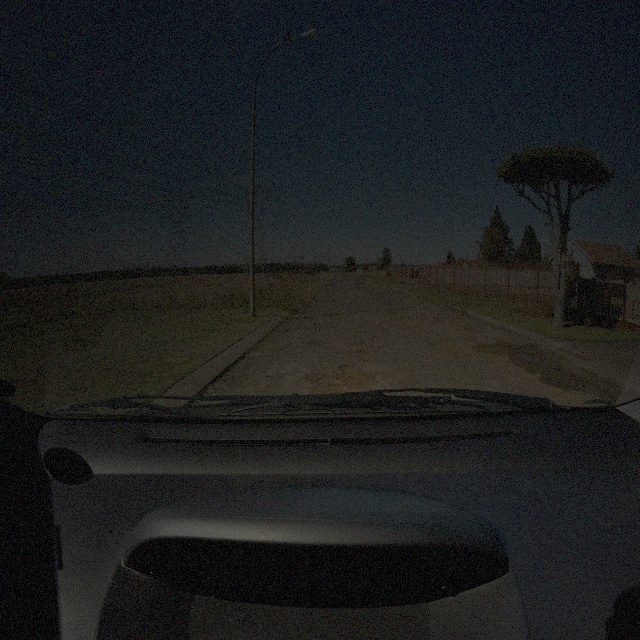pothole: (335, 362, 377, 386), (300, 369, 330, 384), (391, 313, 424, 326), (324, 383, 351, 395), (355, 347, 378, 356)
